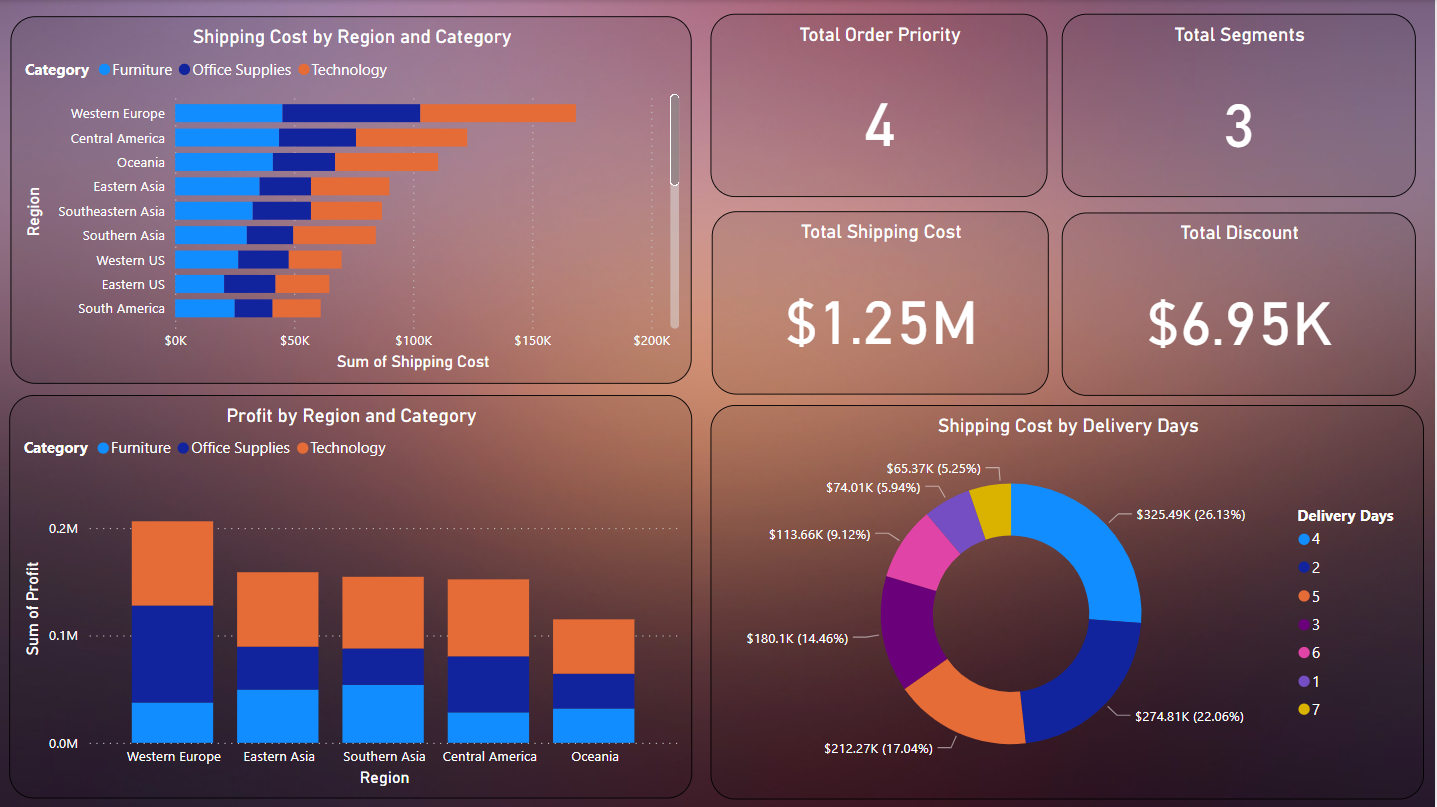

What the dashboard file says about the page in this screenshot:
{"tool":"powerbi","page":{"name":"Page 2","canvas":[1280,720],"ordinal":1},"visuals":[{"type":"barChart","title":"Shipping Cost by Region and Category","fields":{"Category":["Orders.Region"],"Y":["Sum(Orders.Shipping Cost)"],"Series":["Orders.Category"]},"box":[10.9,14.5,606.6,326.8],"z":0},{"type":"columnChart","title":"Profit by Region and Category","fields":{"Category":["Orders.Region"],"Y":["Sum(Orders.Profit)"],"Series":["Orders.Category"]},"box":[9.6,352.2,607.8,359.4],"z":1000},{"type":"card","title":"Total Discount","fields":{"Values":["Sum(Orders.Discount)"]},"box":[947,189.2,314.9,163.6],"z":2000},{"type":"card","title":"Total Order Priority","fields":{"Values":["Count(Orders.Order Priority)"]},"box":[634.8,12.3,300.3,163.2],"z":3000},{"type":"donutChart","title":" Shipping Cost by Delivery Days","fields":{"Y":["Sum(Orders.Shipping Cost)"],"Category":["Orders.Delivery Days"]},"box":[634.4,360.6,635.6,351],"z":4000},{"type":"card","title":"Total Shipping Cost","fields":{"Values":["Sum(Orders.Shipping Cost)"]},"box":[635.2,188.2,300.3,163.2],"z":6000},{"type":"card","title":"Total Segments","fields":{"Values":["Count(Orders.Segment)"]},"box":[947,12.2,314.9,163.6],"z":7000}]}

Visuals, with their boxes in screenshot pixels (x1, y1, x2, y2), scaled from the page's 1280x720 canvas onto the 1437x807 screenshot:
"Shipping Cost by Region and Category" barChart: (x1=12, y1=16, x2=693, y2=383)
"Profit by Region and Category" columnChart: (x1=11, y1=395, x2=693, y2=798)
"Total Discount" card: (x1=1063, y1=212, x2=1417, y2=395)
"Total Order Priority" card: (x1=713, y1=14, x2=1050, y2=197)
" Shipping Cost by Delivery Days" donutChart: (x1=712, y1=404, x2=1426, y2=798)
"Total Shipping Cost" card: (x1=713, y1=211, x2=1050, y2=394)
"Total Segments" card: (x1=1063, y1=14, x2=1417, y2=197)
